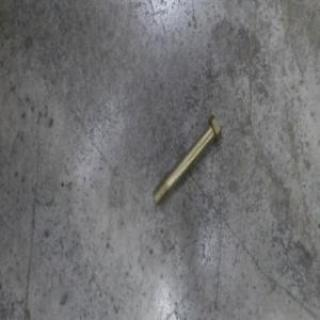Bolttrack_idkeyframe: (151, 111, 222, 208)
